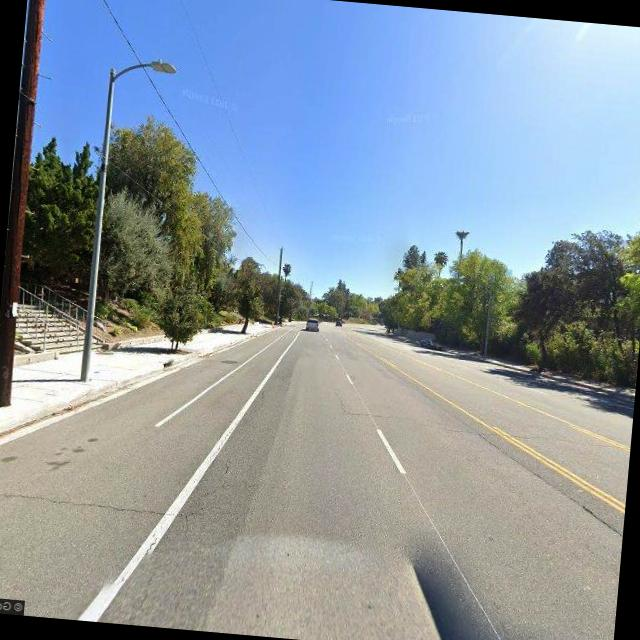crack: (0, 480, 181, 521), (179, 448, 237, 544)
